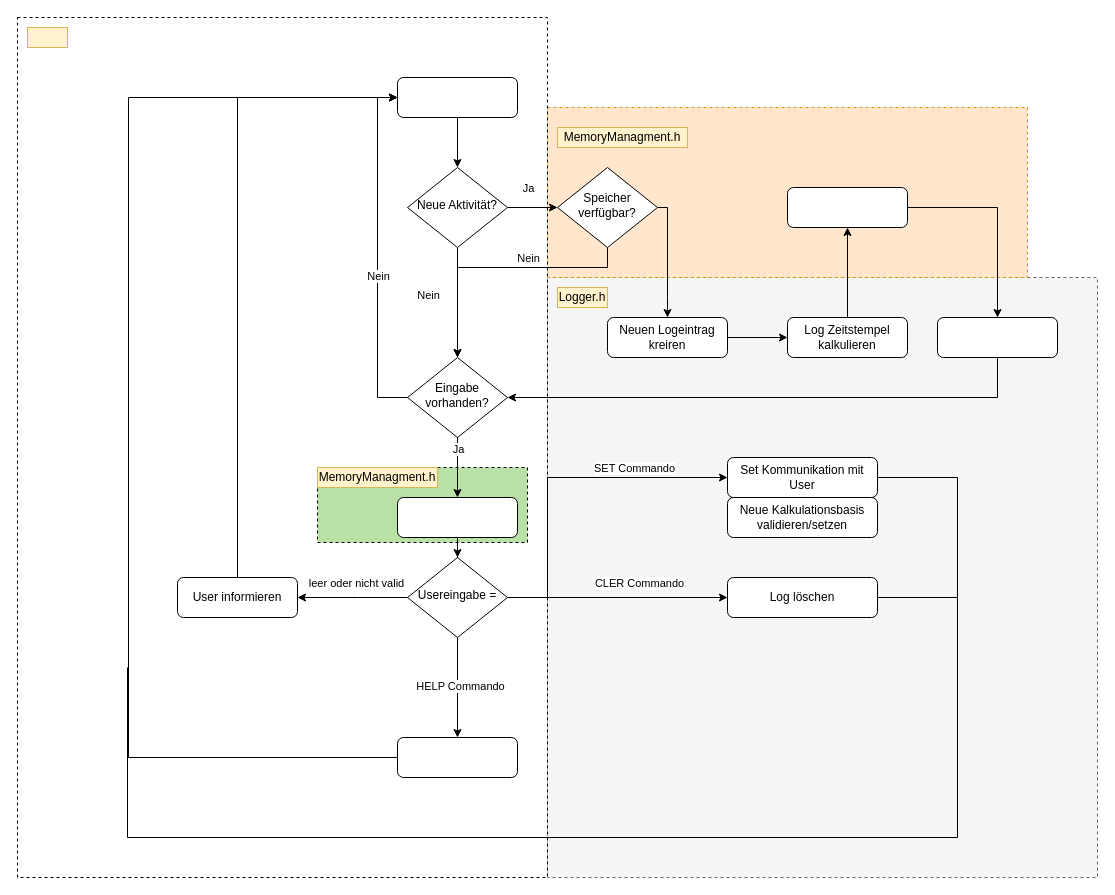
Image size: 1115x895. Some labels were removed from this diagram. Each missing label, with the centre of its shape:
"Logeintrag in Logliste einfügen" belongs at pixel 997 337.
"loop()" belongs at pixel 457 97.
"Speicherstand messen" belongs at pixel 847 207.
"src.ino" belongs at pixel 47 37.
"Usereingabe entgegennehmen" belongs at pixel 457 517.
"Valide Commandos ausgeben" belongs at pixel 457 757.
